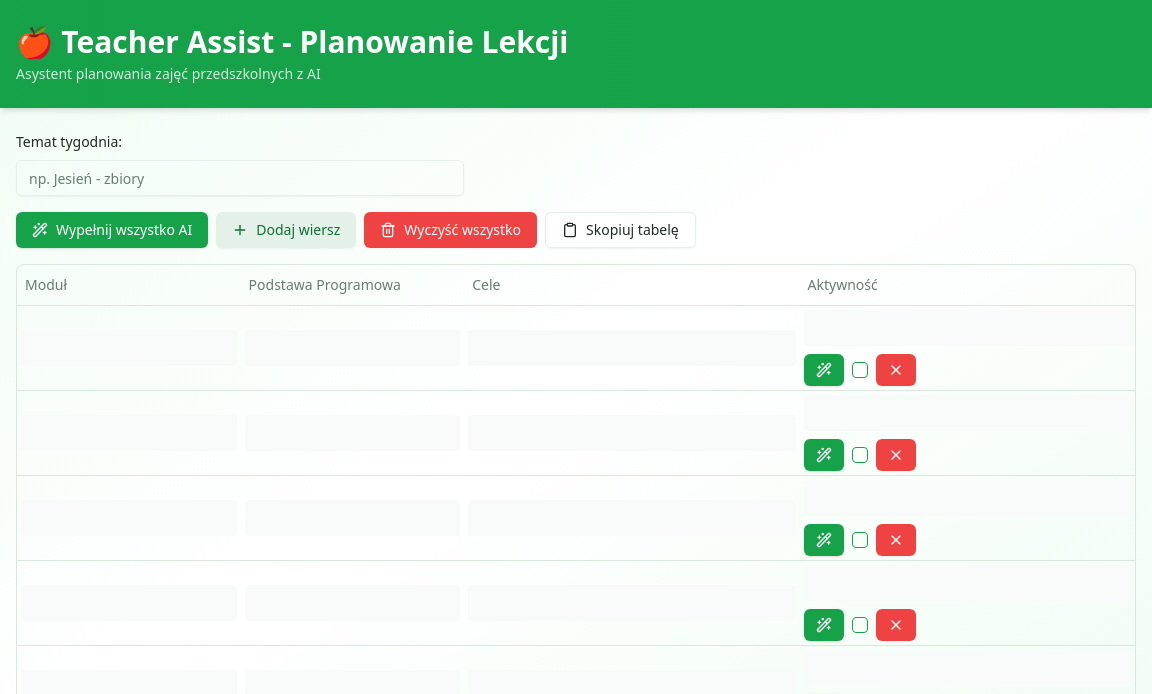
Test: App Integration Tests › should show alert when trying to generate without activity
Click the button "Wypełnij wszystko AI": click(112, 230) [16,212,208,248]
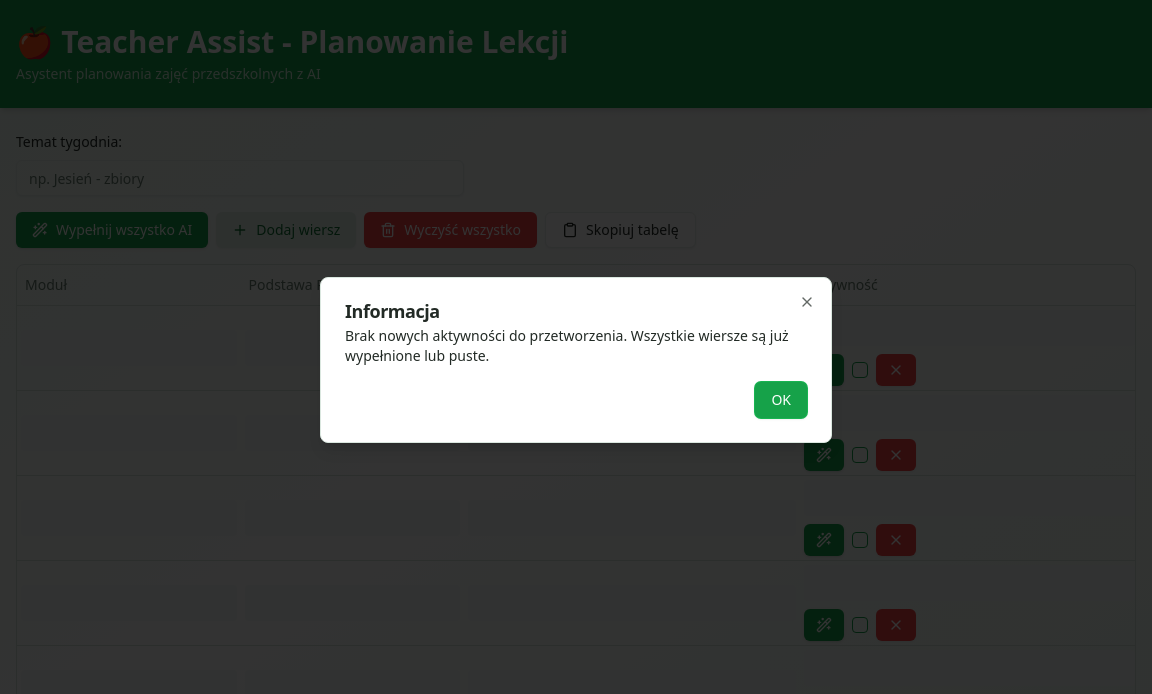
Check: the dialog is shown, box [320,277,832,443]
